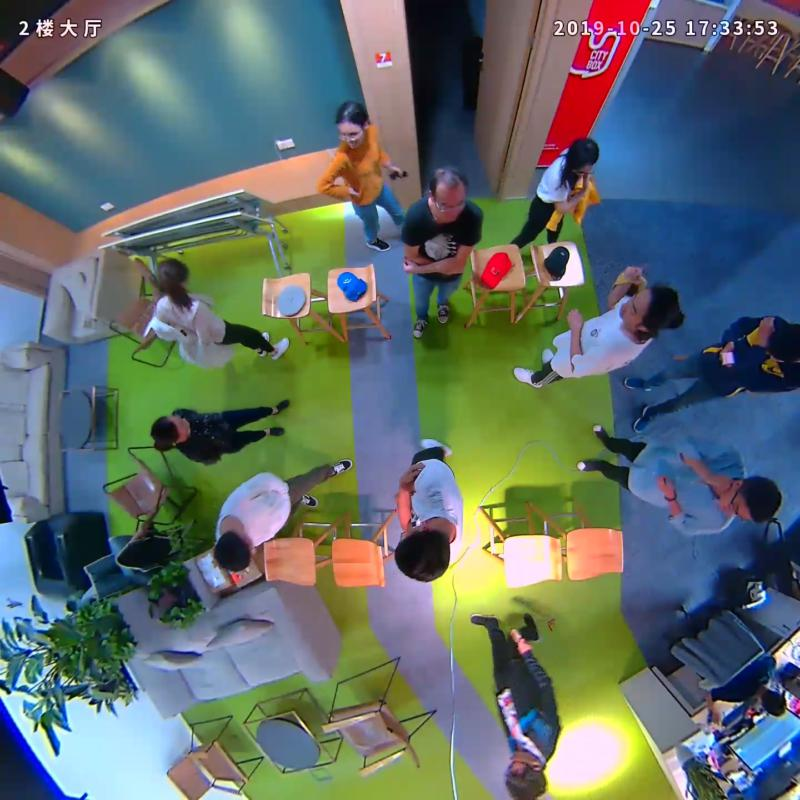head: (395, 524, 451, 582), (619, 285, 679, 338), (717, 476, 783, 524), (503, 748, 547, 800), (429, 166, 468, 219), (213, 530, 254, 573), (335, 101, 367, 150), (567, 138, 599, 178), (150, 415, 191, 445), (156, 257, 189, 289)
